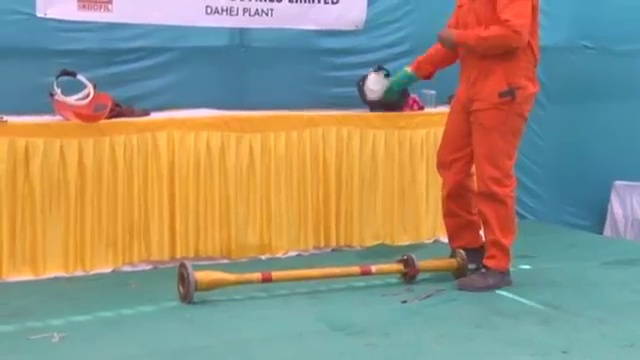person: (376, 1, 544, 296)
